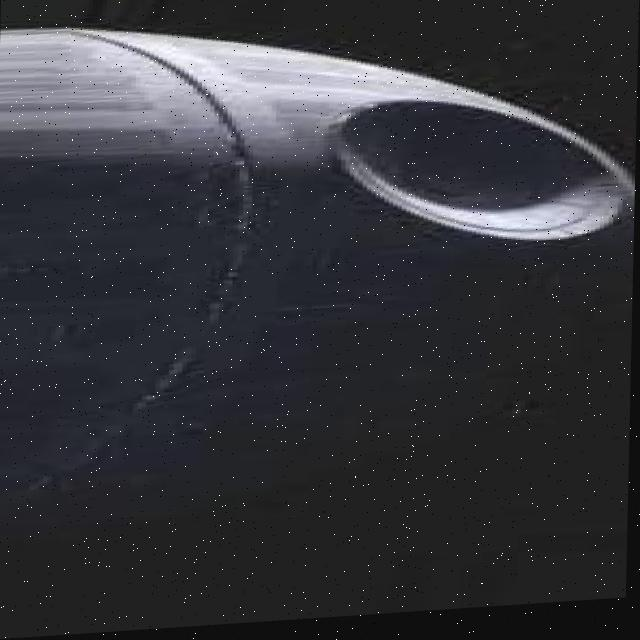deathstar: (0, 0, 639, 531)
